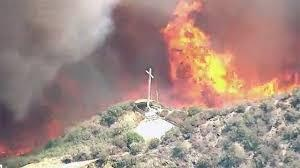fire: (161, 1, 299, 103)
